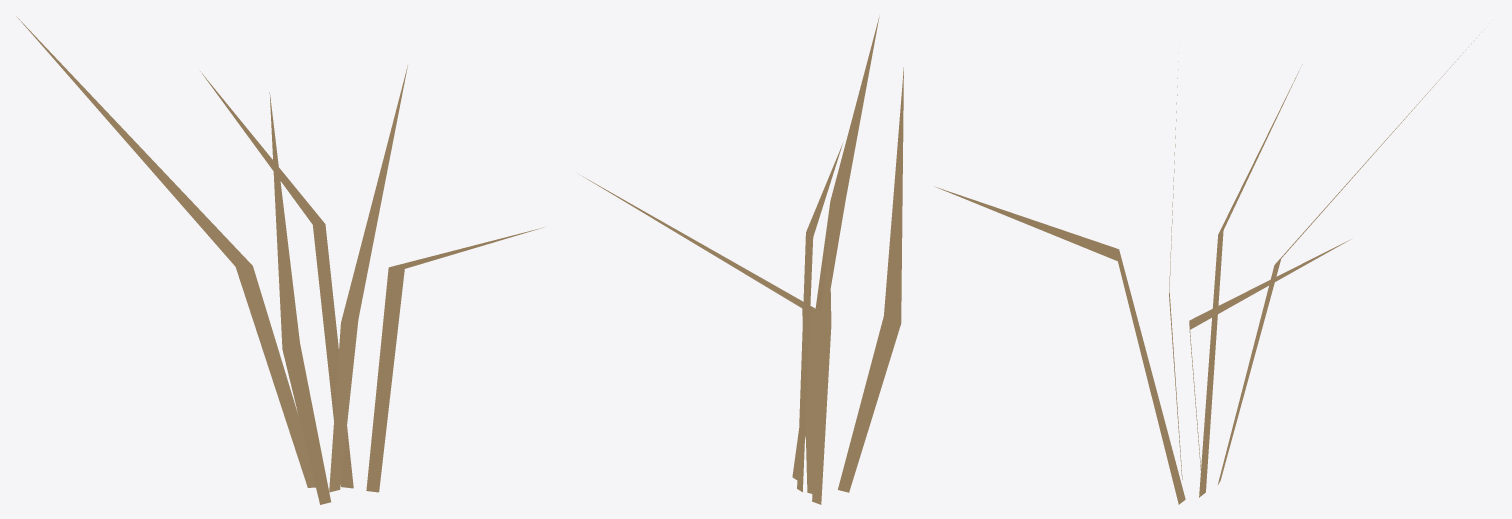
File: Grass_h_OneS_01.fbx
3 renders of one model, left to right at view 1: azimuth 30°, elevation 25°; view 2: azimuth 150°, elevation 25°; view 3: azimuth 270°, elevation 25°, orthographic. The views are drawn at different scales.
Visible parts, largest first — view 1: Grass_h_OneS_01; view 2: Grass_h_OneS_01; view 3: Grass_h_OneS_01.
Boxes of the visible parts, x1,y1,x2,y2 form: Grass_h_OneS_01: [16, 16, 543, 504]; Grass_h_OneS_01: [581, 17, 903, 504]; Grass_h_OneS_01: [934, 32, 1481, 504].
Bounding box in the file's own units: 0.3311 × 0.4225 × 0.5204.
